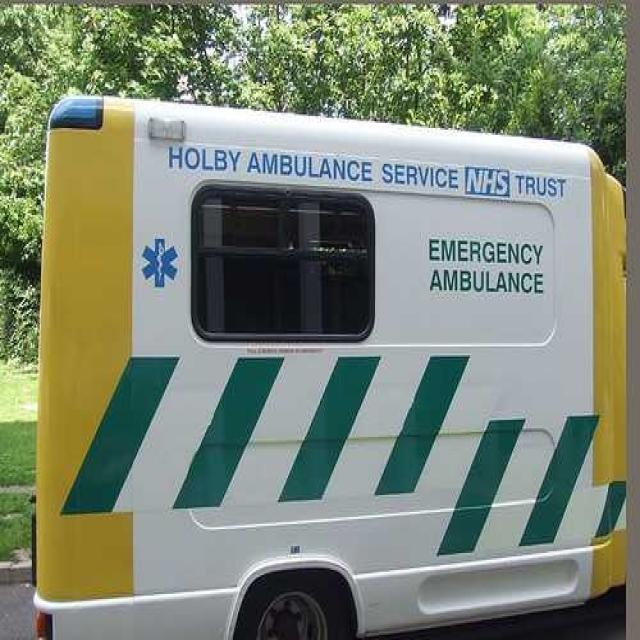ambulance: (34, 94, 629, 640)
